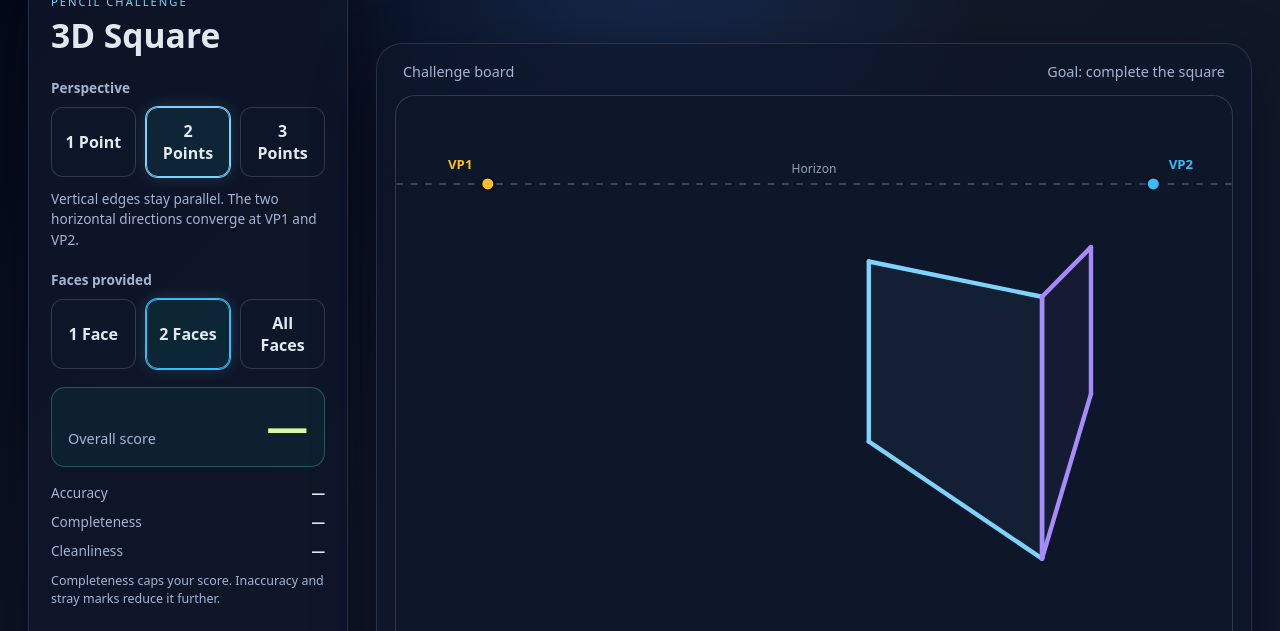
Scenario: the score breakdown explains an accurate but incomplete trace
Click the button "all faces": (283, 334) [240,299,325,369]
(page scrolled)
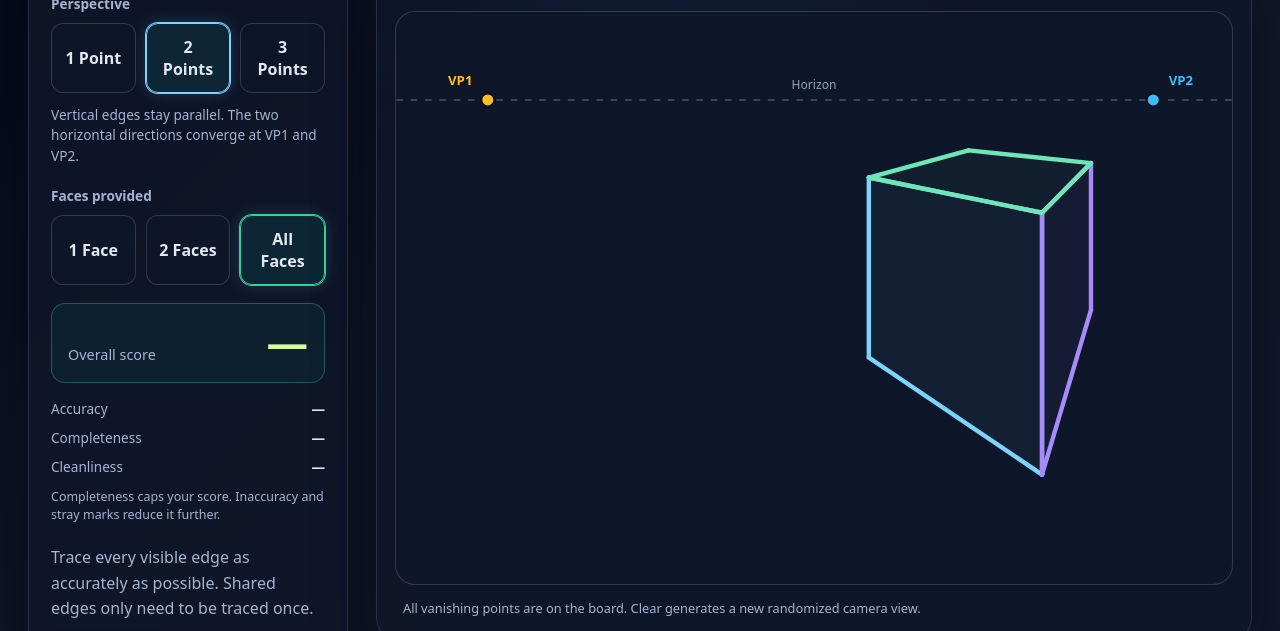
Press the mouse on the drawing named "Drawing canvas": (814, 298) [396,12,1232,584]
(page scrolled)
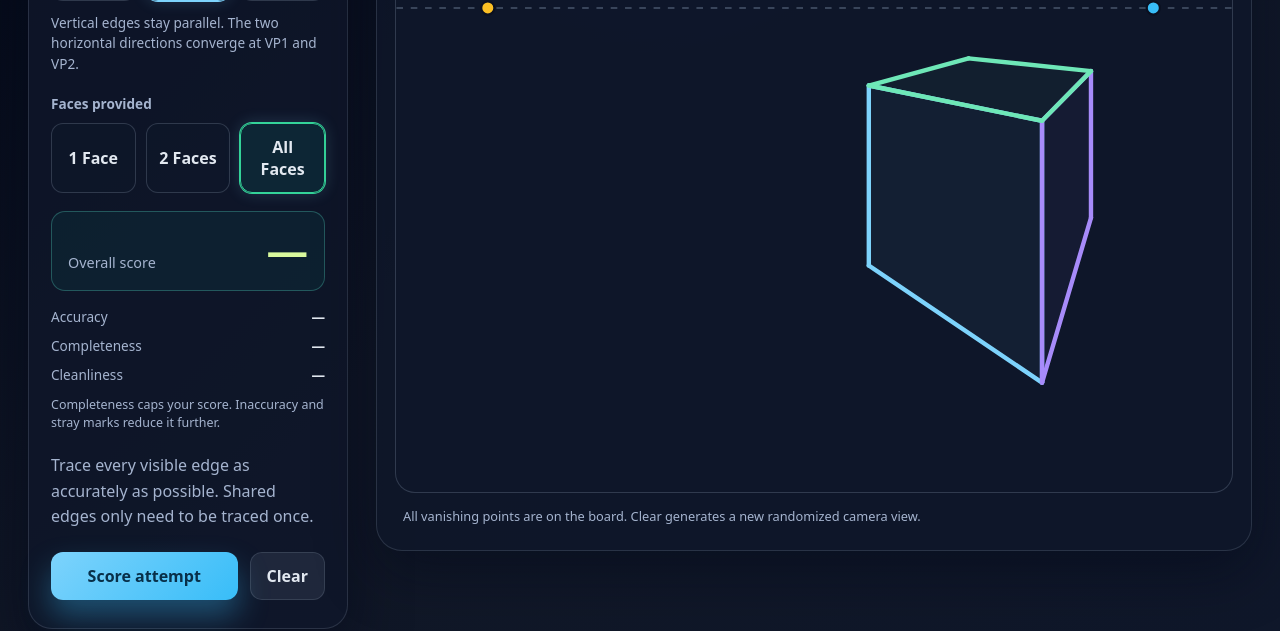
Click the button "Score attempt": (144, 576) [51,552,238,600]
(page scrolled)
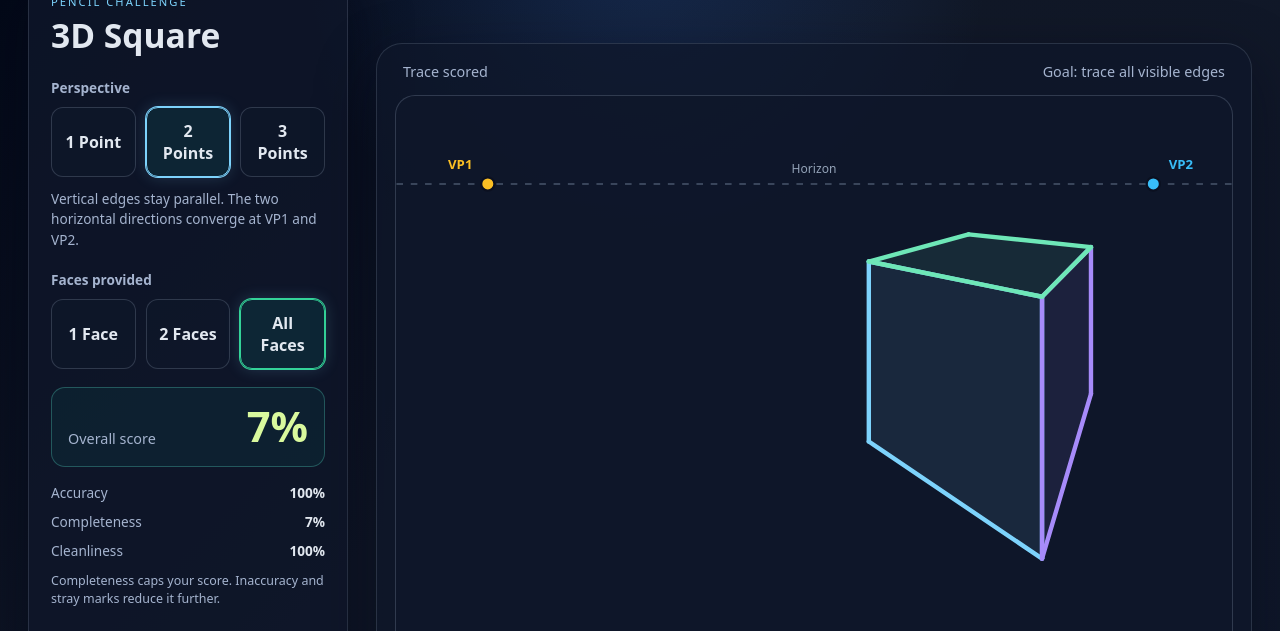
Now the text named "Accuracy subscore" reads "100%", box [289,483,325,502]
Now the text named "Cleanliness subscore" reads "100%", box [289,541,325,560]
Click the button with aria-label "1 vanishing point": (93, 142) [51,107,136,177]
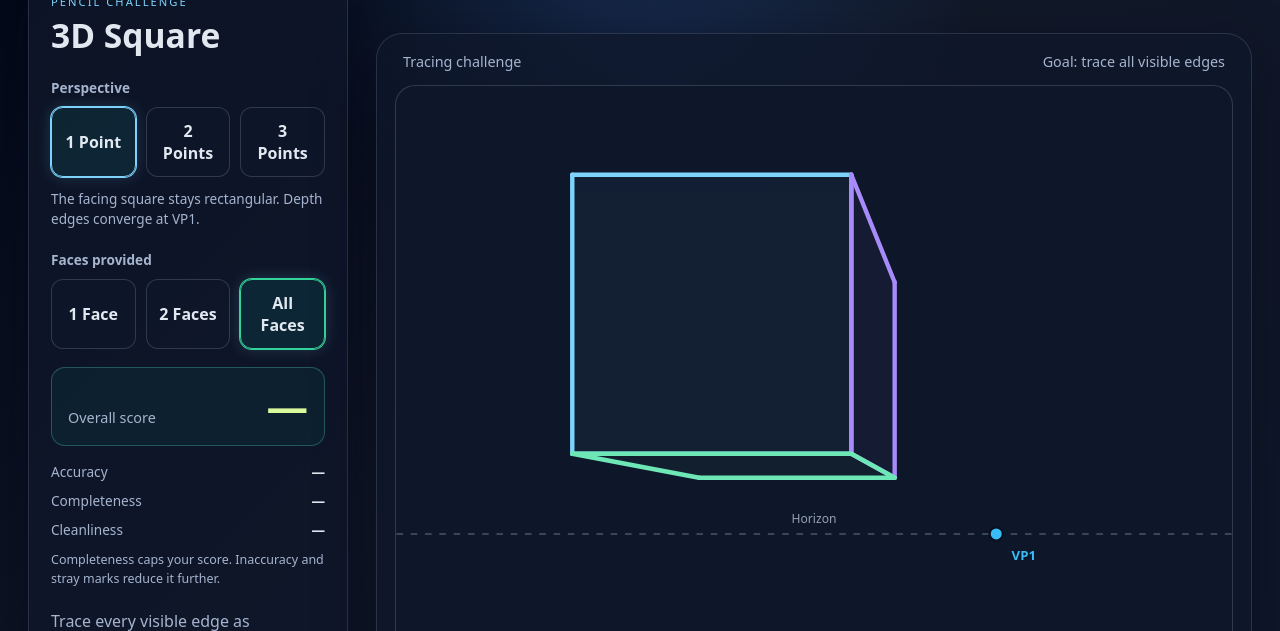
Now the text named "Accuracy subscore" reads "—", box [311,462,325,481]
Now the text named "Completeness subscore" reads "—", box [311,491,325,510]
Now the text named "Cleanliness subscore" reads "—", box [311,520,325,539]
